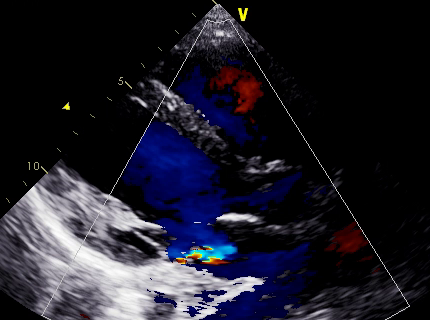MR: (170, 214, 234, 269)
